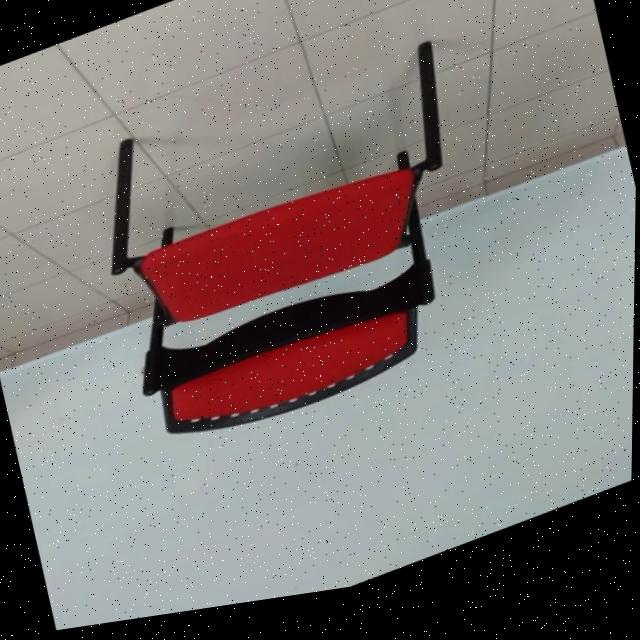sandalye: (112, 55, 443, 439)
